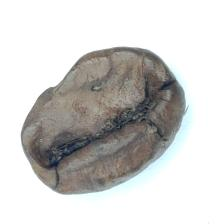NG: (34, 49, 112, 175), (113, 48, 173, 146)
